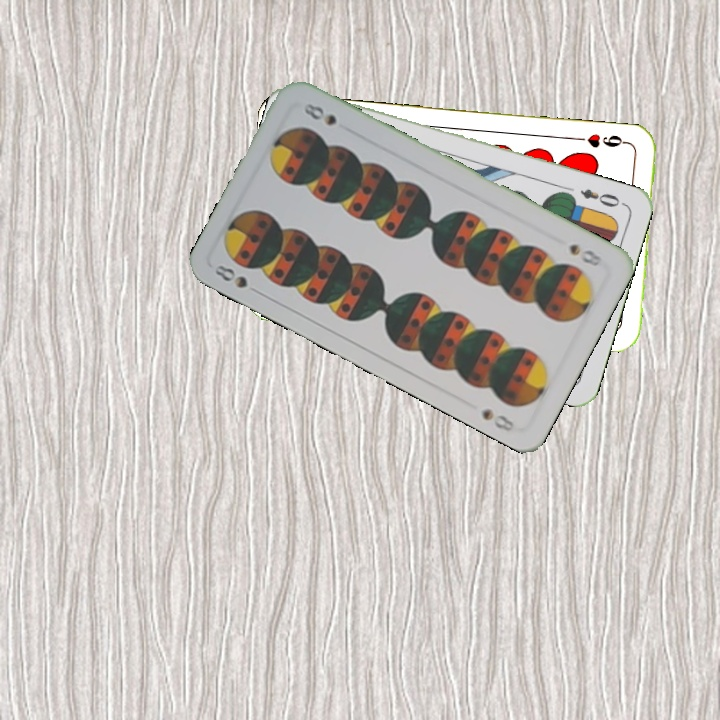EO: (576, 184, 623, 210)
H9: (572, 130, 631, 151)
S8: (210, 260, 265, 298), (565, 239, 605, 269)
